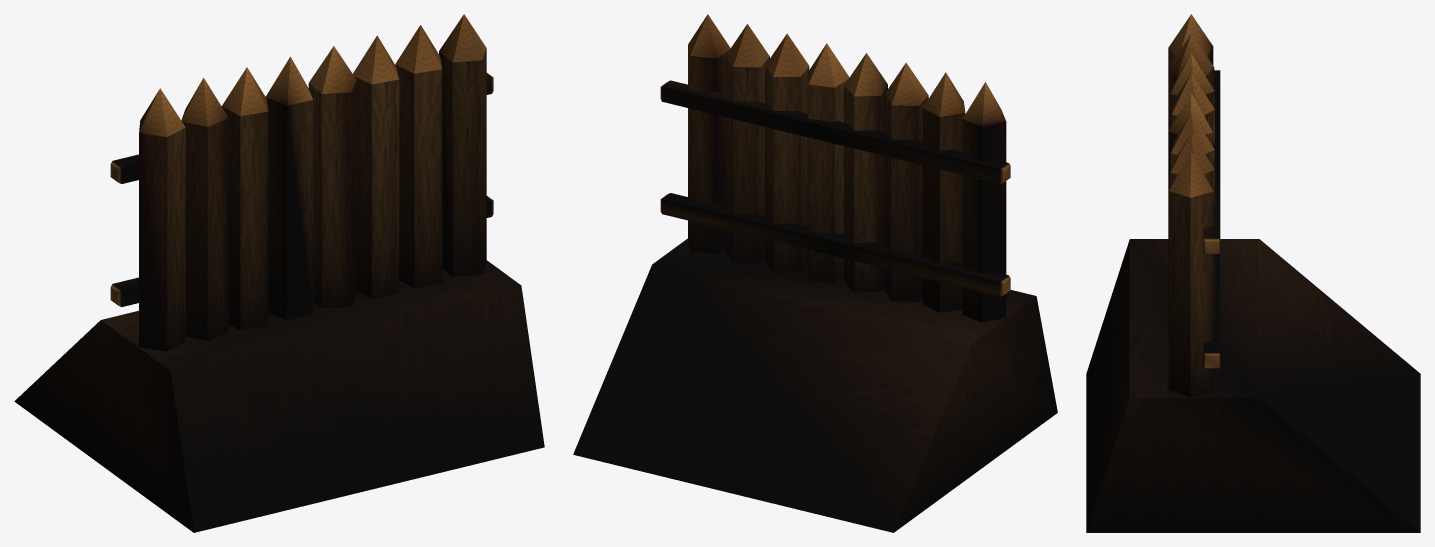
The model's file is earthworks.glb.
3 renders of one model, left to right at view 1: azimuth 30°, elevation 25°; view 2: azimuth 150°, elevation 25°; view 3: azimuth 270°, elevation 25°, orthographic. The views are drawn at different scales.
Visible parts, largest first — view 1: earthworks.001; view 2: earthworks.001; view 3: earthworks.001.
Boxes of the visible parts, box(x1,y1,x2,y2) form: earthworks.001: box(14, 14, 544, 532); earthworks.001: box(573, 14, 1057, 532); earthworks.001: box(1086, 14, 1420, 532).
Size of the model in its own units: 5.35 by 5.42 by 4.44.
1 material, 1 textured.
